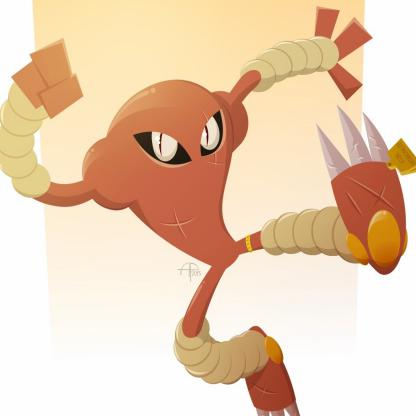Hitmonlee: (6, 22, 416, 411)
